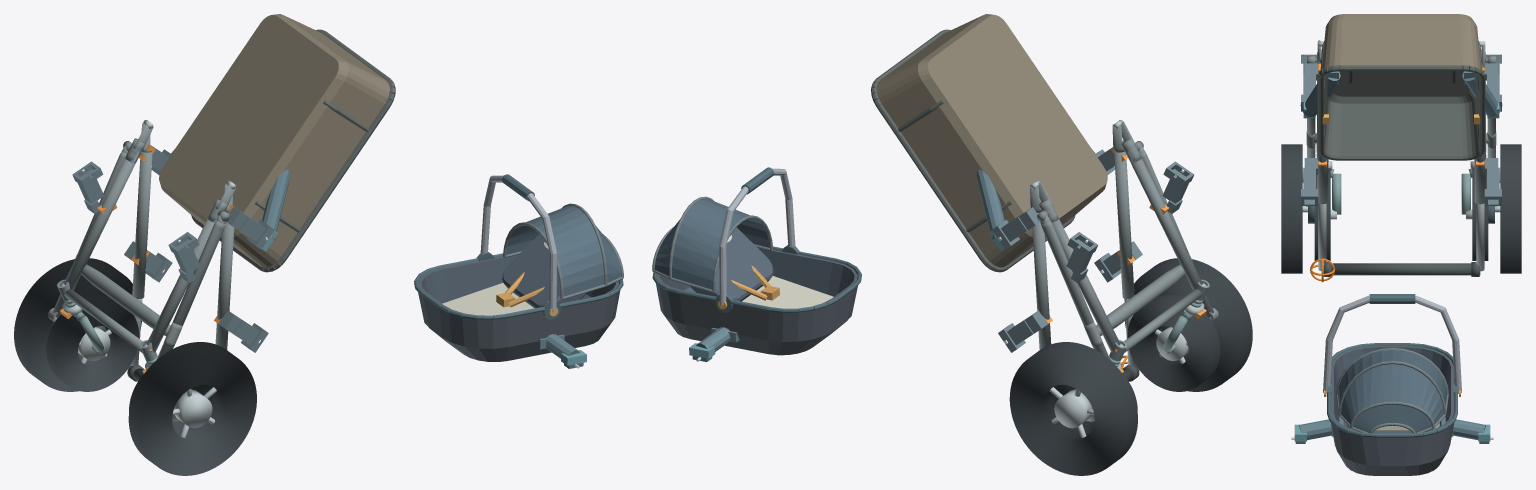
File: D16_w550_state3_wheel_L.glb
3 renders of one model, left to right at view 1: azimuth 30°, elevation 25°; view 2: azimuth 150°, elevation 25°; view 3: azimuth 270°, elevation 25°, orthographic. The views are drawn at different scales.
Parts seen in each view (by area): view 1: D16_Lower, D16_Upper, RL_tire.004, FR_tire.004, RR_tire.004, main_upper_1.005, main_lower_1.005, V46_rearbar.005, main_upper_-1.005, V46_rear_leg_-1.005, main_lower_-1.005, D16_Lower_Mount_M (+8 smaller); view 2: D16_Lower, D16_Upper, RR_tire.004, FL_tire.004, RL_tire.004, main_upper_-1.005, main_lower_-1.005, V46_rearbar.005, main_upper_1.005, V46_rear_leg_1.005, main_lower_1.005, D16_Lower_Mount_M (+8 smaller); view 3: D16_Lower, D16_Upper, RL_tire.004, RR_tire.004, round_handle.004, D16_Upper_Mount_H, D16_Lower_Mount_M, Universal_Cabin_Receiver_H_1, Universal_Cabin_Receiver_H_-1, FR_tire.004, FL_tire.004, handle_slider_1.004 (+8 smaller).
Boxes of the visible parts, x1,y1,x2,y2 form: D16_Lower: (159,14,395,272); D16_Upper: (414,174,623,361); RL_tire.004: (128,342,256,475); FR_tire.004: (46,295,139,391); RR_tire.004: (14,258,141,391); main_upper_1.005: (132,151,152,298); main_lower_1.005: (64,151,139,290); V46_rearbar.005: (81,264,170,335); main_upper_-1.005: (215,213,234,349); V46_rear_leg_-1.005: (156,220,225,359); main_lower_-1.005: (146,218,217,352); D16_Lower_Mount_M: (171,149,290,251); D16_Lower: (871,14,1107,272); D16_Upper: (652,167,861,355); RR_tire.004: (1009,342,1137,475); FL_tire.004: (1127,295,1220,391); RL_tire.004: (1125,258,1252,391); main_upper_-1.005: (1114,151,1134,298); main_lower_-1.005: (1127,151,1202,290); V46_rearbar.005: (1096,264,1185,336); main_upper_1.005: (1032,213,1051,349); V46_rear_leg_1.005: (1041,220,1109,359); main_lower_1.005: (1050,219,1120,352); D16_Lower_Mount_M: (976,148,1095,251); D16_Lower: (1317,14,1485,160); D16_Upper: (1323,294,1461,475); RL_tire.004: (1281,144,1302,273); RR_tire.004: (1500,144,1521,273); round_handle.004: (1331,263,1480,275); D16_Upper_Mount_H: (1291,416,1493,443); D16_Lower_Mount_M: (1300,71,1502,118); Universal_Cabin_Receiver_H_1: (1484,158,1501,205); Universal_Cabin_Receiver_H_-1: (1301,158,1318,205); FR_tire.004: (1472,168,1488,260); FL_tire.004: (1314,168,1330,260); handle_slider_1.004: (1476,203,1484,271).
Size of the model in its own units: 1.62 by 1.02 by 0.671.
